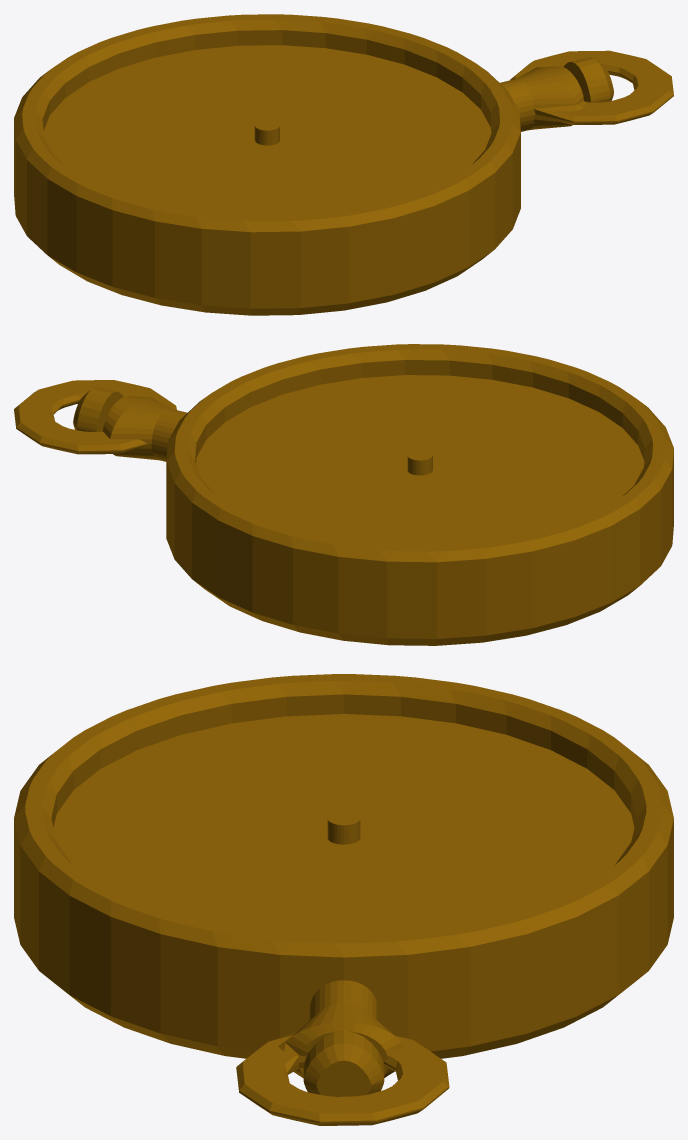
The model's file is pocketwatch.glb.
The picture shows the model from 3 angles, top to bottom: view 1: azimuth 30°, elevation 25°; view 2: azimuth 150°, elevation 25°; view 3: azimuth 270°, elevation 25°; orthographic projection. The views are drawn at different scales.
Parts seen in each view (by area): view 1: Circle; view 2: Circle; view 3: Circle.
Part boxes in pixels (x1,y1,x2,y2): Circle: (14, 14, 673, 315); Circle: (14, 344, 673, 645); Circle: (14, 674, 673, 1125).
Size of the model in its own units: 2.8 by 0.4206 by 2.
